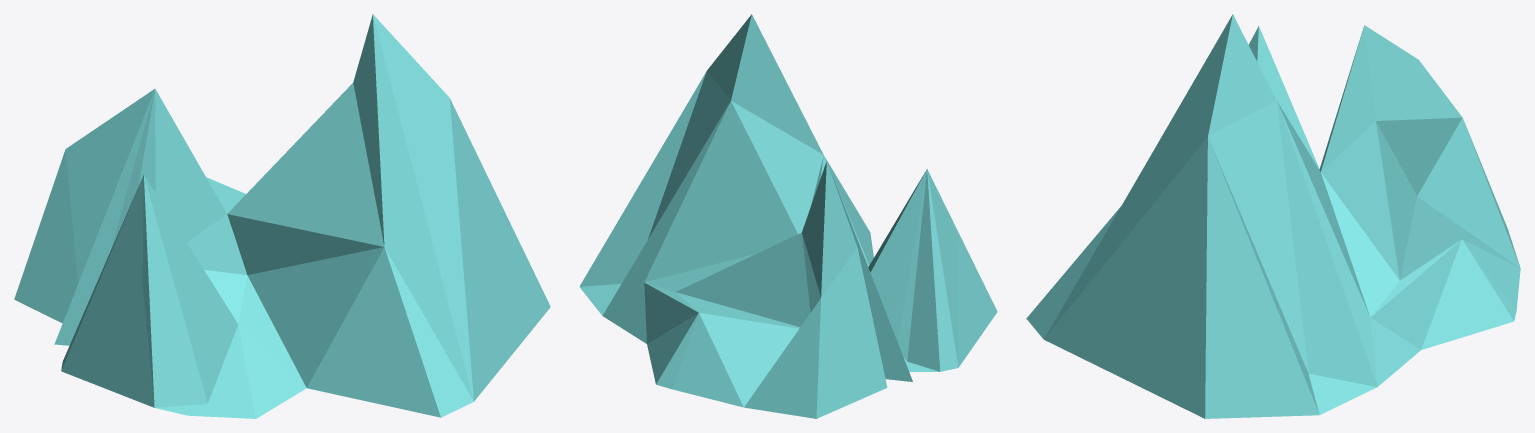
Rendered from pointy-iceberg5.fbx.
The picture shows the model from 3 angles, left to right: view 1: azimuth 30°, elevation 25°; view 2: azimuth 150°, elevation 25°; view 3: azimuth 270°, elevation 25°; orthographic projection. The views are drawn at different scales.
Parts seen in each view (by area): view 1: berg 1.001; view 2: berg 1.001; view 3: berg 1.001.
Boxes of the visible parts, left/top/right/bottom form: berg 1.001: left=14, top=14, right=550, bottom=418; berg 1.001: left=579, top=14, right=997, bottom=418; berg 1.001: left=1026, top=14, right=1520, bottom=418.
Size of the model in its own units: 6063 by 4254 by 5875.
